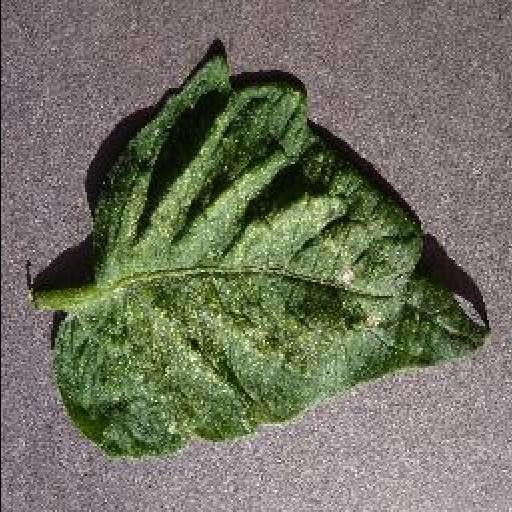disease_tomato: (52, 52, 486, 458)
